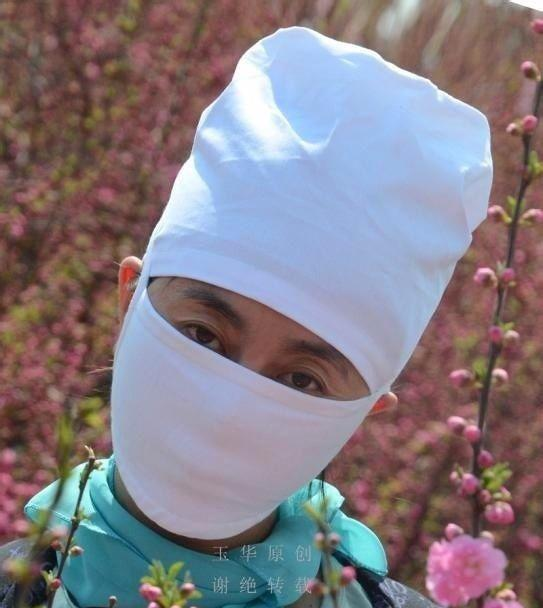OK: (113, 272, 359, 532)
